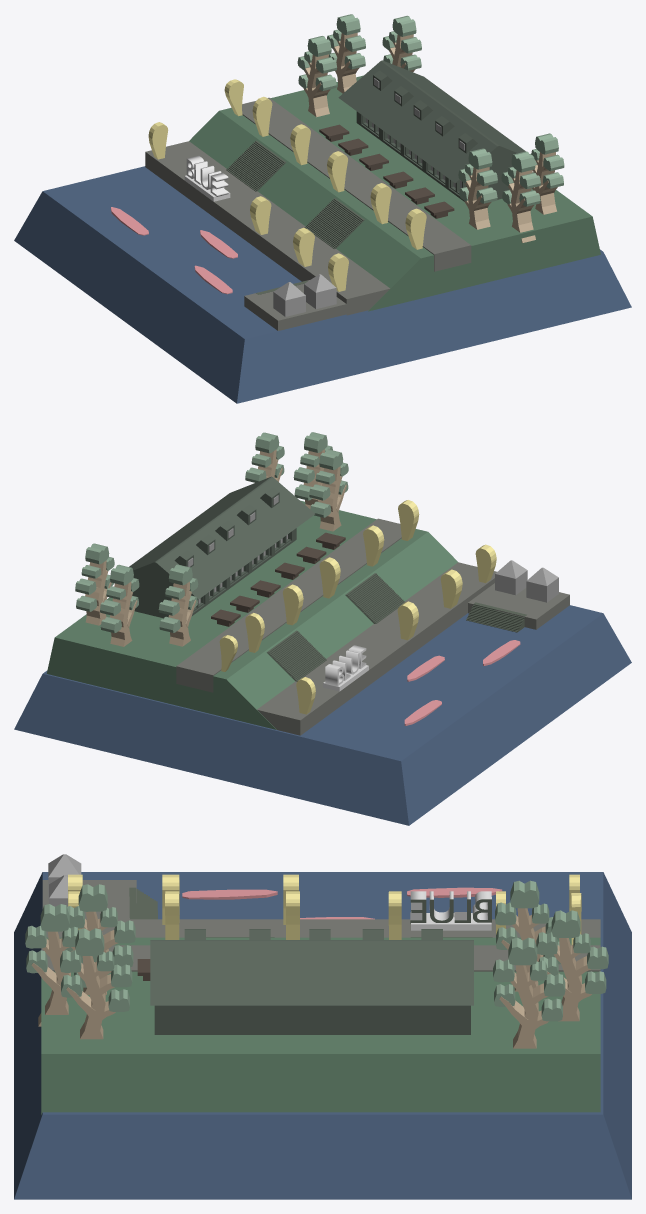
File: yuriage_color.glb
3 views of the same model, one above another, from view 1: azimuth 30°, elevation 25°; view 2: azimuth 150°, elevation 25°; view 3: azimuth 270°, elevation 25° (orthographic). The views are drawn at different scales.
Parts seen in each view (by area): view 1: テキスト.015, テキスト.016, テキスト.069, テキスト.019, テキスト.018, テキスト.080, テキスト.017, テキスト.150, テキスト.081, テキスト.227, テキスト.167, テキスト.203 (+11 smaller); view 2: テキスト.015, テキスト.016, テキスト.069, テキスト.019, テキスト.018, テキスト.080, テキスト.017, テキスト.150, テキスト.081, テキスト.203, テキスト.179, テキスト.167 (+11 smaller); view 3: テキスト.015, テキスト.016, テキスト.019, テキスト.017, テキスト.069, テキスト.018, テキスト.215, テキスト.191, テキスト.080, テキスト.179, テキスト.227, テキスト.240 (+14 smaller).
Boxes of the visible parts, x1,y1,x2,y2 form: テキスト.015: (14,166,631,403); テキスト.016: (189,75,600,311); テキスト.069: (145,141,390,315); テキスト.019: (338,60,525,182); テキスト.018: (242,97,471,271); テキスト.080: (244,280,346,330); テキスト.017: (356,111,509,201); テキスト.150: (273,282,305,316); テキスト.081: (304,274,336,308); テキスト.227: (511,170,535,242); テキスト.167: (307,54,329,117); テキスト.203: (468,167,490,229); テキスト.015: (14,605,631,825); テキスト.016: (46,500,457,729); テキスト.069: (257,562,496,735); テキスト.019: (129,476,314,599); テキスト.018: (176,518,401,692); テキスト.080: (468,583,569,629); テキスト.017: (132,528,296,618); テキスト.150: (526,567,558,602); テキスト.081: (495,560,527,595); テキスト.203: (319,466,341,531); テキスト.179: (109,582,132,646); テキスト.167: (168,581,190,646); テキスト.015: (14,872,631,1199); テキスト.016: (41,937,600,1114); テキスト.019: (150,940,473,1005); テキスト.017: (154,1005,470,1034); テキスト.069: (46,919,600,937); テキスト.018: (41,945,600,971); テキスト.215: (80,956,105,1039); テキスト.191: (513,965,538,1048); テキスト.080: (42,880,136,919); テキスト.179: (558,938,581,1021); テキスト.227: (38,931,70,1026); テキスト.240: (182,889,277,899).
Size of the model in its own units: 6.64 by 2.64 by 6.49.
